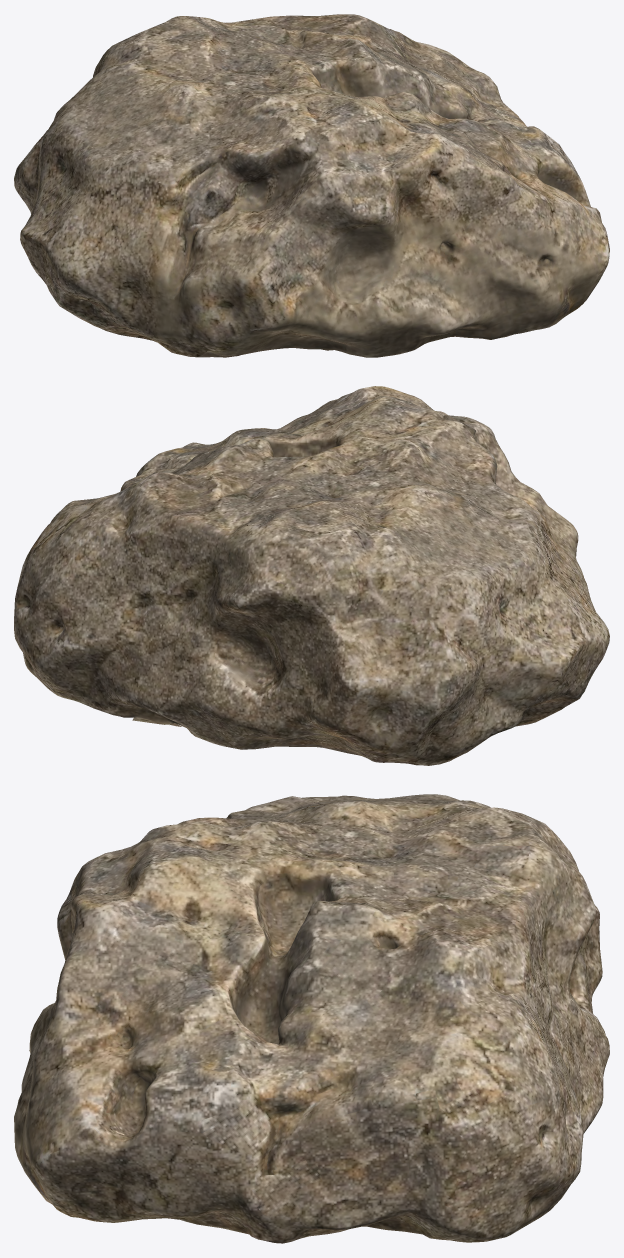
File: rock-1.glb
3 views of the same model, one above another, from view 1: azimuth 30°, elevation 25°; view 2: azimuth 150°, elevation 25°; view 3: azimuth 270°, elevation 25° (orthographic). The views are drawn at different scales.
Visible parts, largest first — view 1: tripo_node_79967b4a-be37-4ae7-aff3-62c5483e1028; view 2: tripo_node_79967b4a-be37-4ae7-aff3-62c5483e1028; view 3: tripo_node_79967b4a-be37-4ae7-aff3-62c5483e1028.
Part boxes in pixels (box(x1,y1,x2,y2)): tripo_node_79967b4a-be37-4ae7-aff3-62c5483e1028: box(14, 14, 609, 357); tripo_node_79967b4a-be37-4ae7-aff3-62c5483e1028: box(14, 386, 609, 765); tripo_node_79967b4a-be37-4ae7-aff3-62c5483e1028: box(14, 794, 609, 1243).
Bounding box in the file's own units: 0.5436 × 0.2287 × 0.4699.
Materials: 1 (1 with a texture image).
